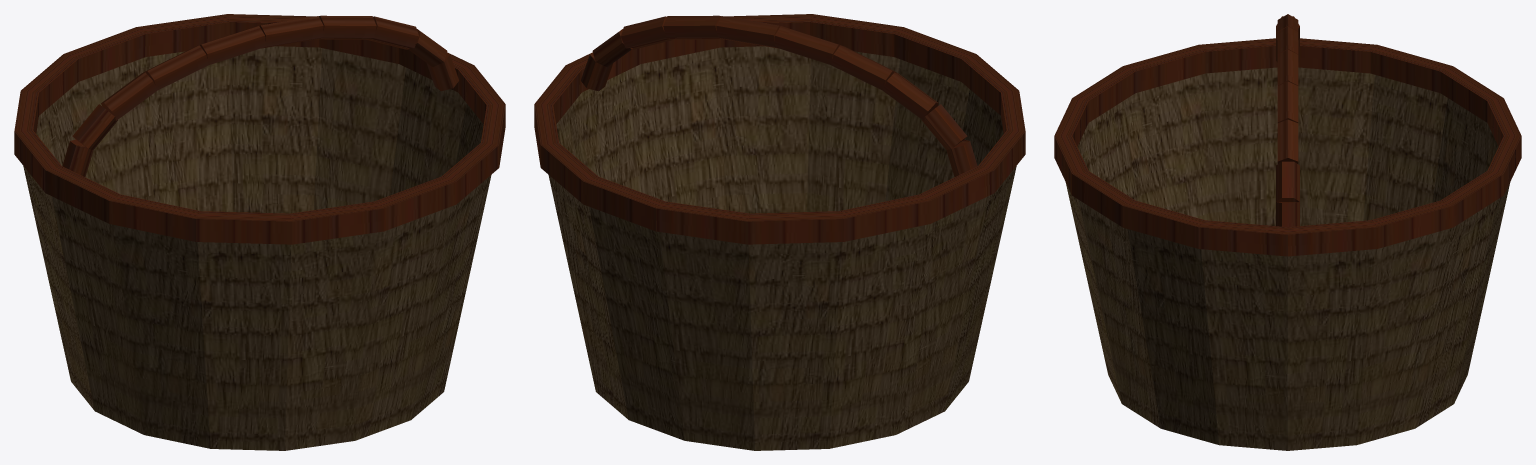
File: wicker_basket_01.glb
3 renders of one model, left to right at view 1: azimuth 30°, elevation 25°; view 2: azimuth 150°, elevation 25°; view 3: azimuth 270°, elevation 25°, orthographic. The views are drawn at different scales.
Visible parts, largest first — view 1: wicker_basket_01; view 2: wicker_basket_01; view 3: wicker_basket_01.
Boxes of the visible parts, x1,y1,x2,y2 form: wicker_basket_01: (14, 14, 505, 450); wicker_basket_01: (534, 14, 1025, 450); wicker_basket_01: (1054, 14, 1521, 450).
Bounding box in the file's own units: 0.39 × 0.3 × 0.39.
Materials: 2 (2 with a texture image).
